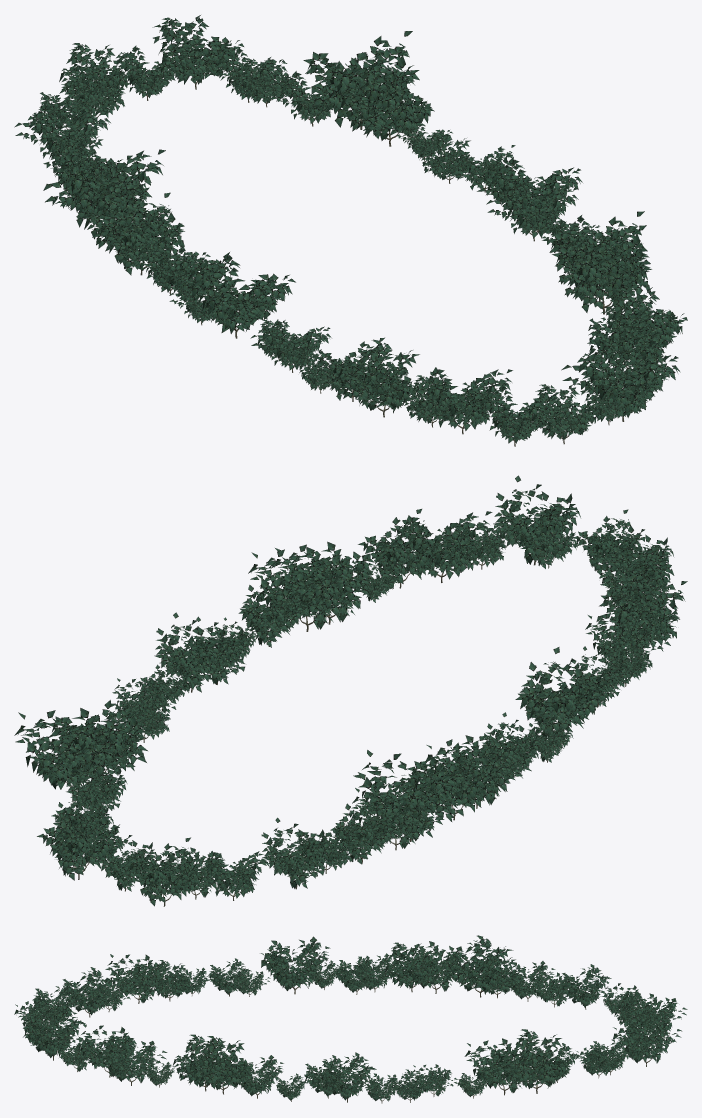
Rendered from plants.glb.
3 views of the same model, one above another, from view 1: azimuth 30°, elevation 25°; view 2: azimuth 150°, elevation 25°; view 3: azimuth 270°, elevation 25° (orthographic). The views are drawn at different scales.
Visible parts, largest first — view 1: shrub0; view 2: shrub0; view 3: shrub0.
Part boxes in pixels (x1,y1,x2,y2): shrub0: [14, 15, 687, 446]; shrub0: [14, 475, 687, 906]; shrub0: [14, 935, 687, 1103].
Size of the model in its own units: 7.35 by 1.33 by 15.17.
1 material, 1 textured.
